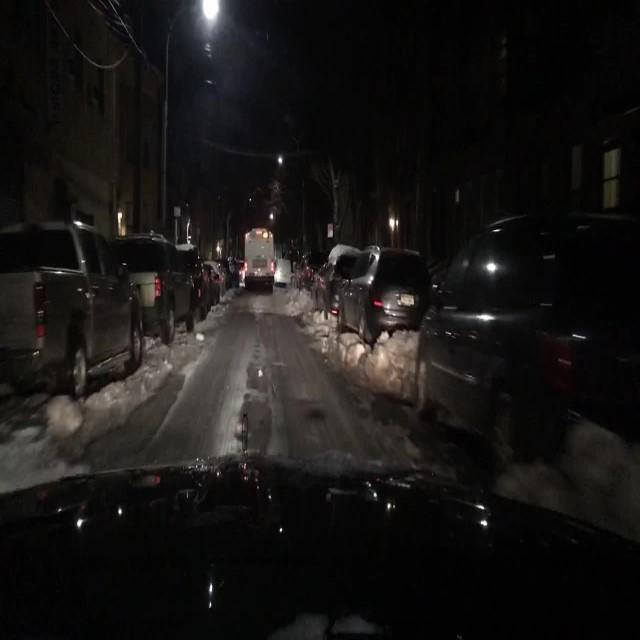single accident: (312, 217, 621, 445)
